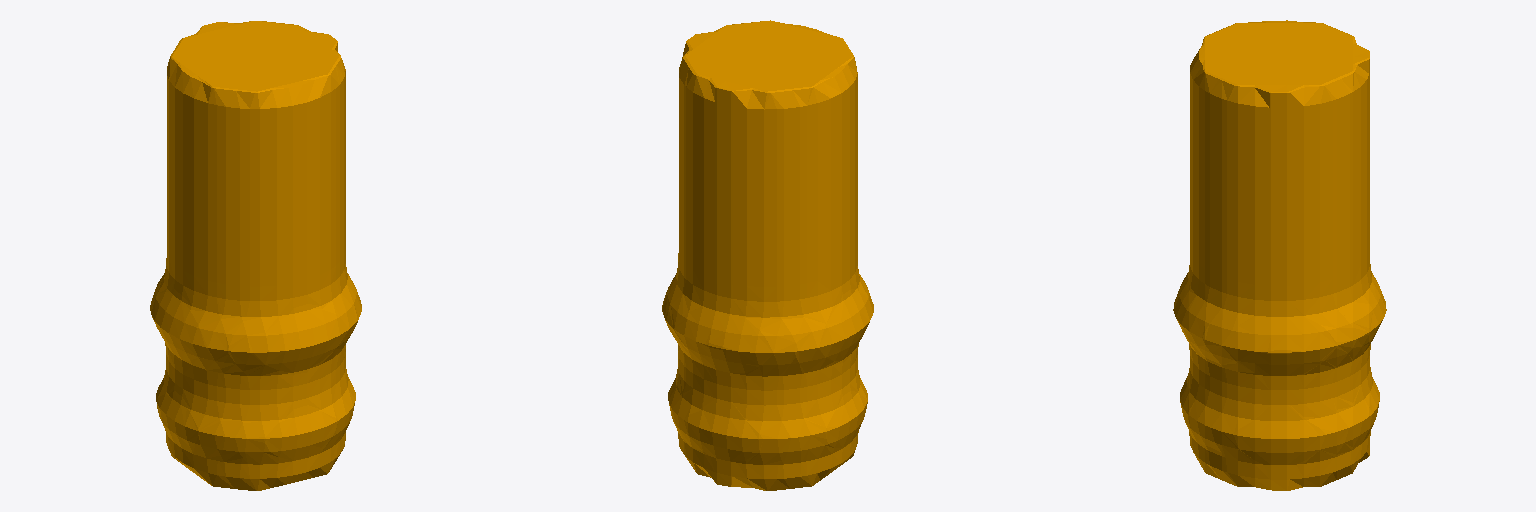
robot.urdf — cylinder_../../meshes/cylinders/cylinder_88.stl:
<?xml version="1.0" encoding="utf-8"?>  <robot name="cylinder_../../meshes/cylinders/cylinder_88.stl">   <link name="cylinder_../../meshes/cylinders/cylinder_88.stl">     <visual>       <geometry>         <mesh filename="../meshes/cylinders/cylinder_88.stl" scale="1 1 1"/>       </geometry>     </visual>     <collision>       <geometry>         <mesh filename="../meshes/cylinders/cylinder_88.stl" scale="1 1 1"/>       </geometry>     </collision>     <inertial>        <origin         xyz="0 0 0"         rpy="0 0 0" />       <mass value="0.3344354153066875"/>       <origin rpy="0 0 0" xyz="0 0 0"/>       <inertia ixx="0.0005614521728696258" ixy="9.612276642225003e-10" ixz="-3.796961107476638e-08" iyy="0.0005614519853141449" iyz="-4.432638905058265e-08" izz="0.00013301334542738507"/>     </inertial>   </link>  </robot>

--- Render facts (derived) ---
The picture shows the robot from 3 angles, left to right: view 1: azimuth 30°, elevation 25°; view 2: azimuth 150°, elevation 25°; view 3: azimuth 270°, elevation 25°; orthographic projection.
Robot: cylinder_../../meshes/cylinders/cylinder_88.stl — 1 links, 0 joints (none); root link cylinder_../../meshes/cylinders/cylinder_88.stl; default pose: all joints at 0.
Visible links, largest first — view 1: cylinder_../../meshes/cylinders/cylinder_88.stl; view 2: cylinder_../../meshes/cylinders/cylinder_88.stl; view 3: cylinder_../../meshes/cylinders/cylinder_88.stl.
Link boxes in pixels (x1,y1,x2,y2): cylinder_../../meshes/cylinders/cylinder_88.stl: (150, 21, 361, 490); cylinder_../../meshes/cylinders/cylinder_88.stl: (662, 20, 873, 490); cylinder_../../meshes/cylinders/cylinder_88.stl: (1173, 20, 1386, 490).
Bounding box of the posed robot: 0.0649 × 0.0649 × 0.1352 m (x, y, z).
Meshes: 1 distinct files referenced, 1 mesh visuals loaded (1 binary STL).